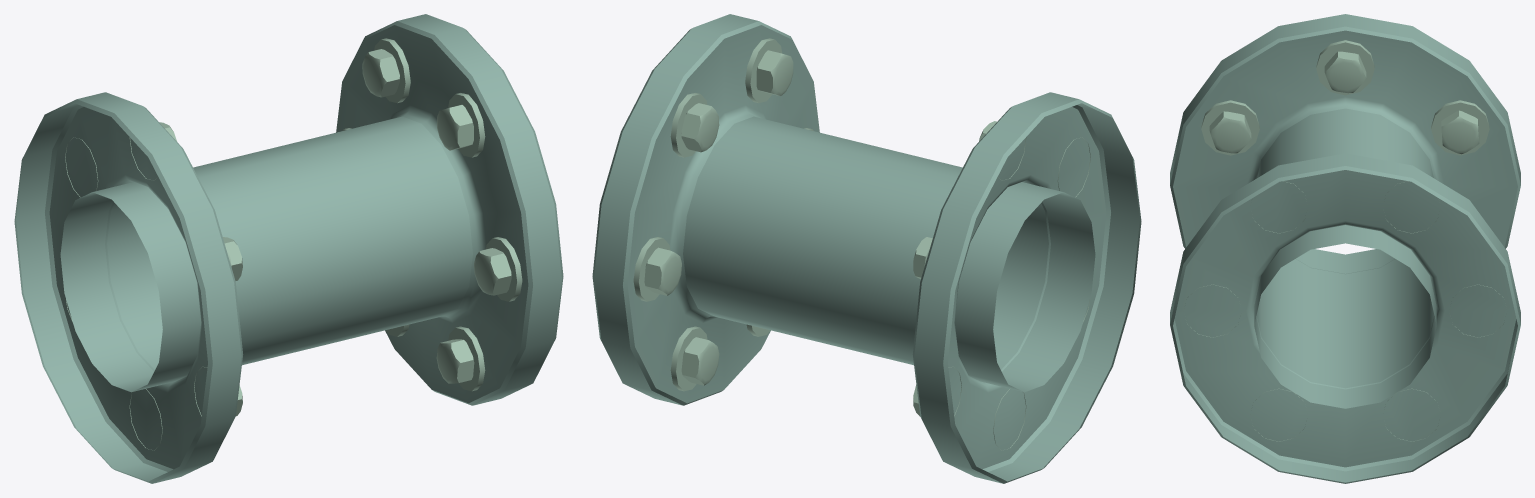
File: PipeComplexLarge_A3_Short_2_Alt.fbx
3 views of the same model, side by side, from view 1: azimuth 30°, elevation 25°; view 2: azimuth 150°, elevation 25°; view 3: azimuth 270°, elevation 25° (orthographic). The views are drawn at different scales.
Visible parts, largest first — view 1: PipeComplexLarge_A3_Short_2_Alt.001; view 2: PipeComplexLarge_A3_Short_2_Alt.001; view 3: PipeComplexLarge_A3_Short_2_Alt.001.
Part boxes in pixels (x1=…): PipeComplexLarge_A3_Short_2_Alt.001: x1=14, y1=14, x2=563, y2=483; PipeComplexLarge_A3_Short_2_Alt.001: x1=592, y1=14, x2=1141, y2=483; PipeComplexLarge_A3_Short_2_Alt.001: x1=1170, y1=14, x2=1520, y2=483.
Size of the model in its own units: 0.4009 by 0.3846 by 0.3846.
